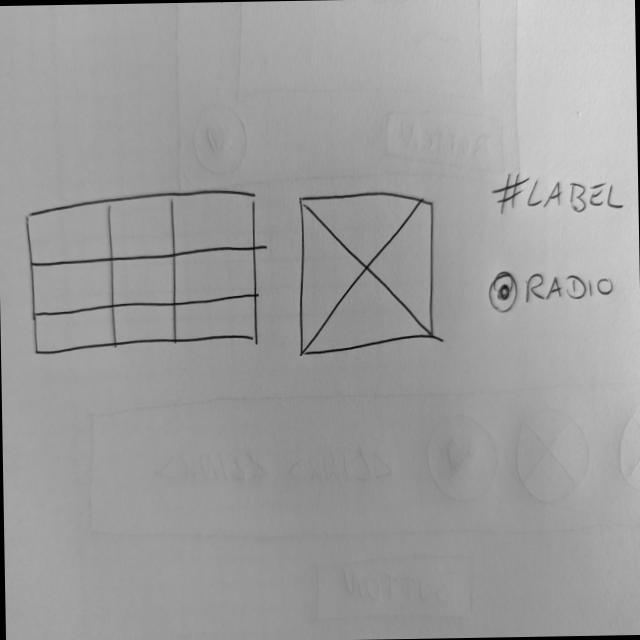image: (295, 187, 440, 360)
label: (493, 166, 627, 221)
radio: (488, 266, 617, 315)
table: (26, 184, 265, 361)
